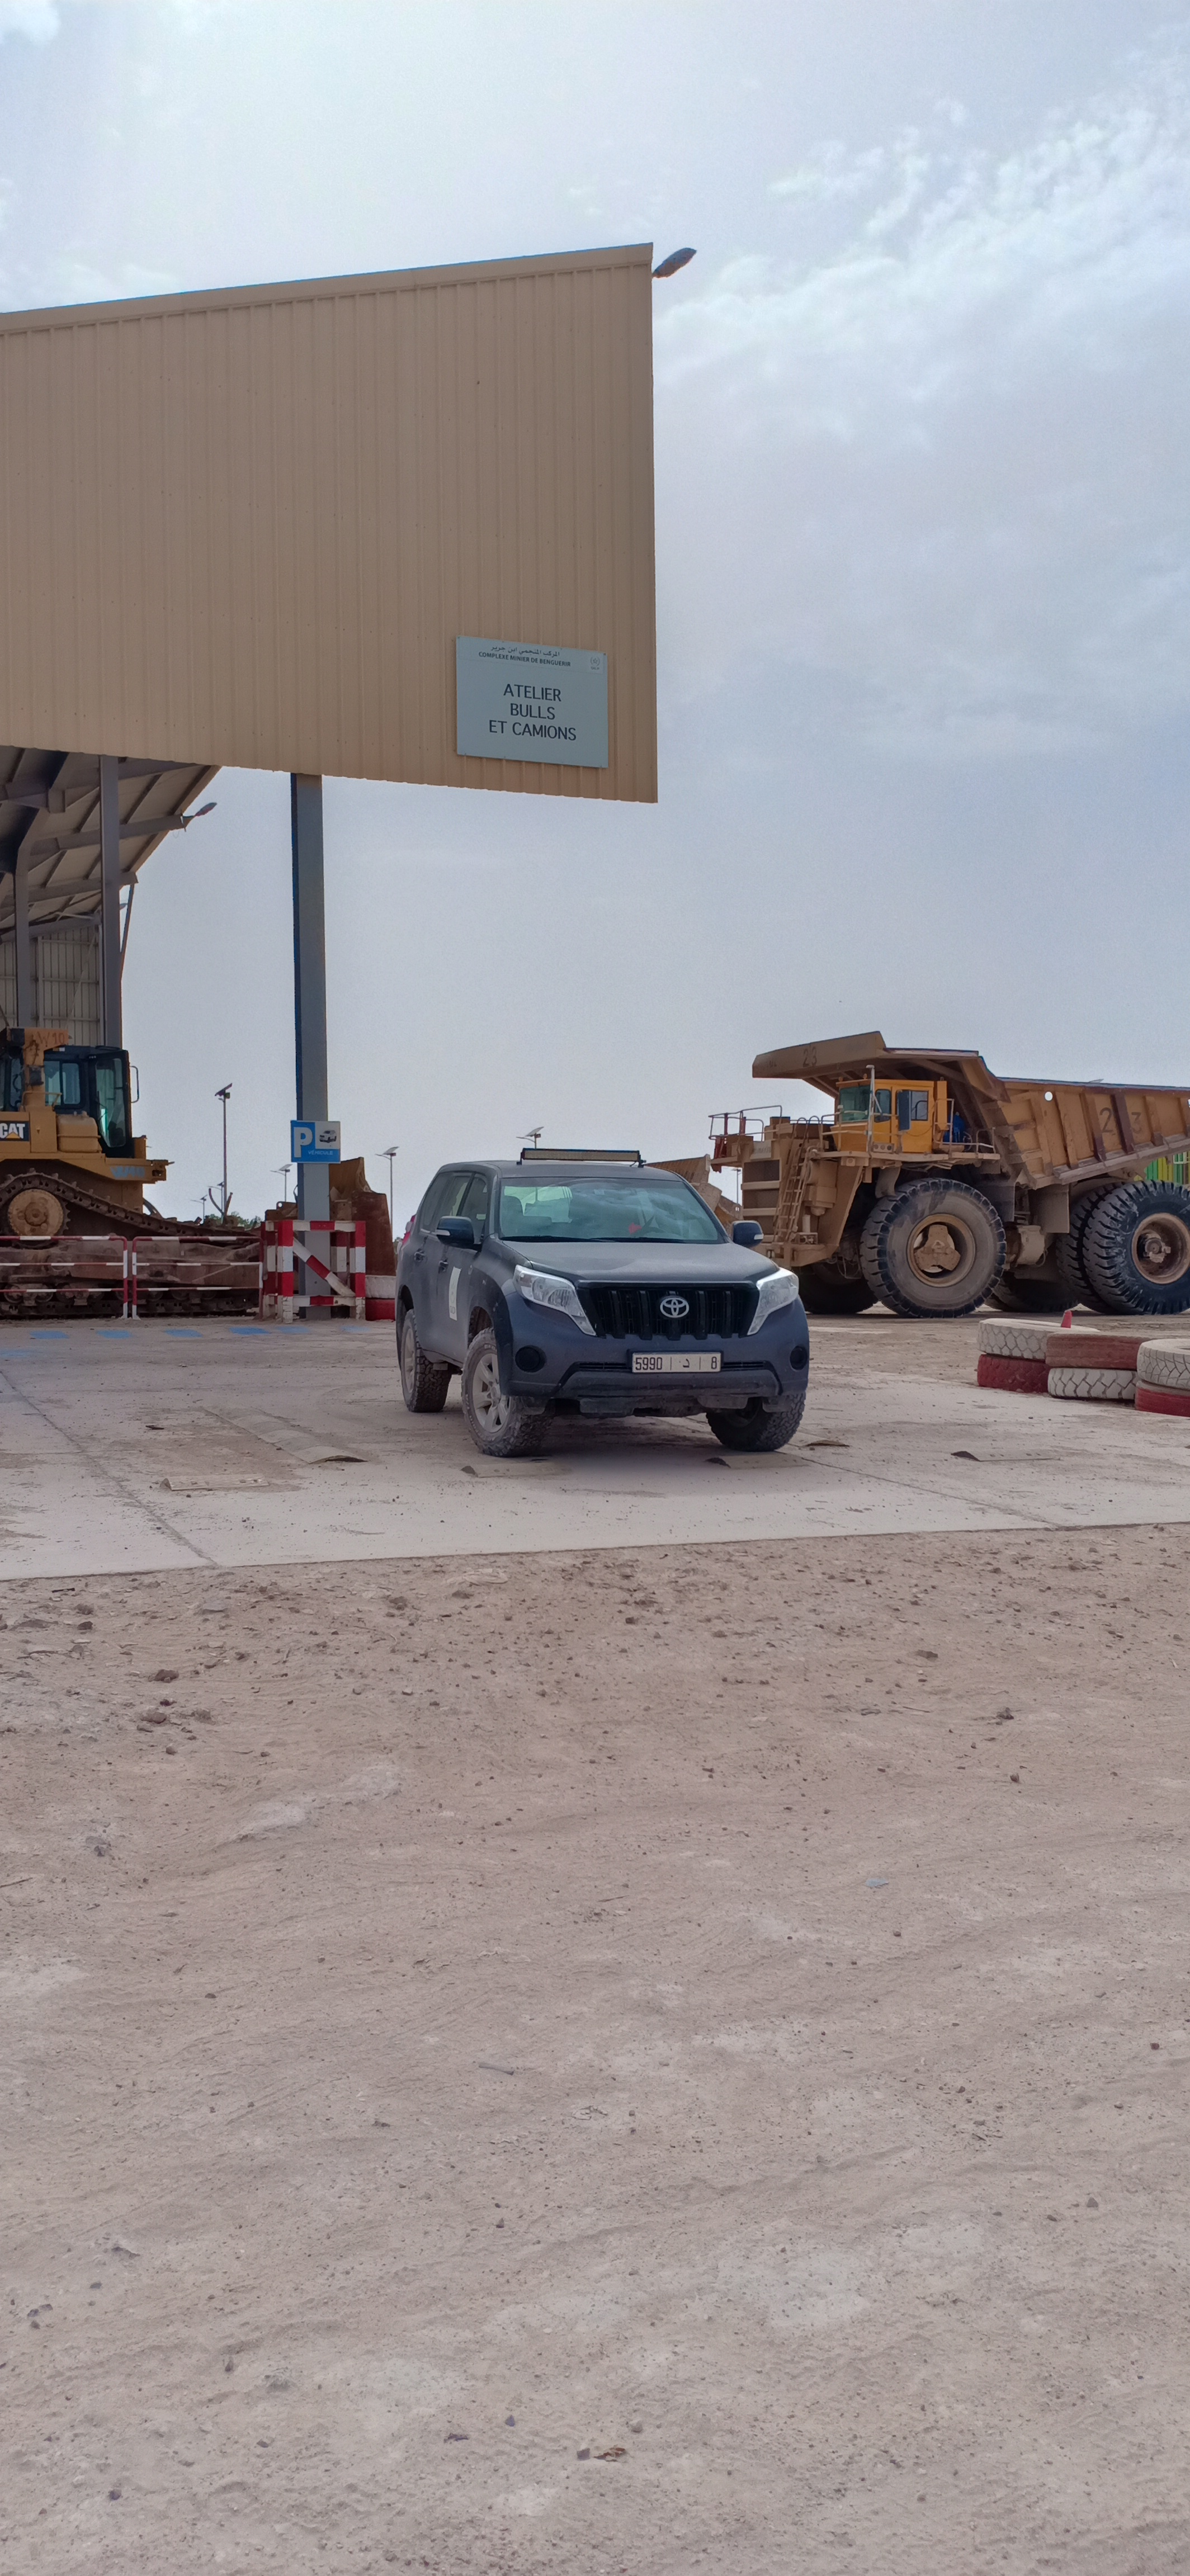camion: (674, 1015, 1190, 1359)
car: (368, 1135, 856, 1510)
